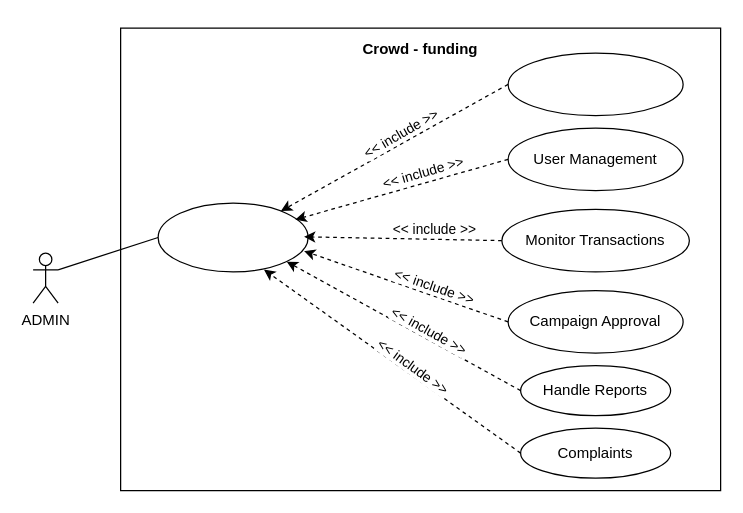
Image size: 743x513. Some labels were removed from this diagram. The shapes that lost their labels are listed below. From the top down, each one's centre as x and y in pixels, then its label:
At [595,84]: "System Analytics".
At [232,237]: "Login".
